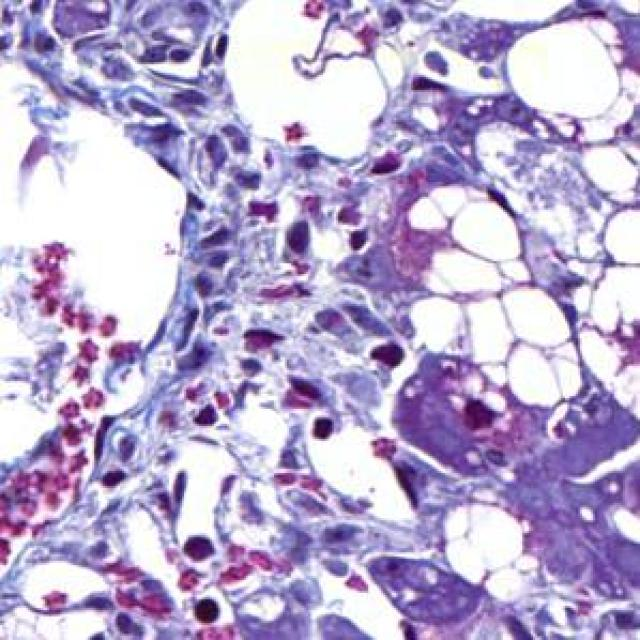ballooning: (394, 178, 584, 413), (501, 15, 636, 150)
